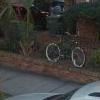Bicycle: (39, 29, 94, 73)
